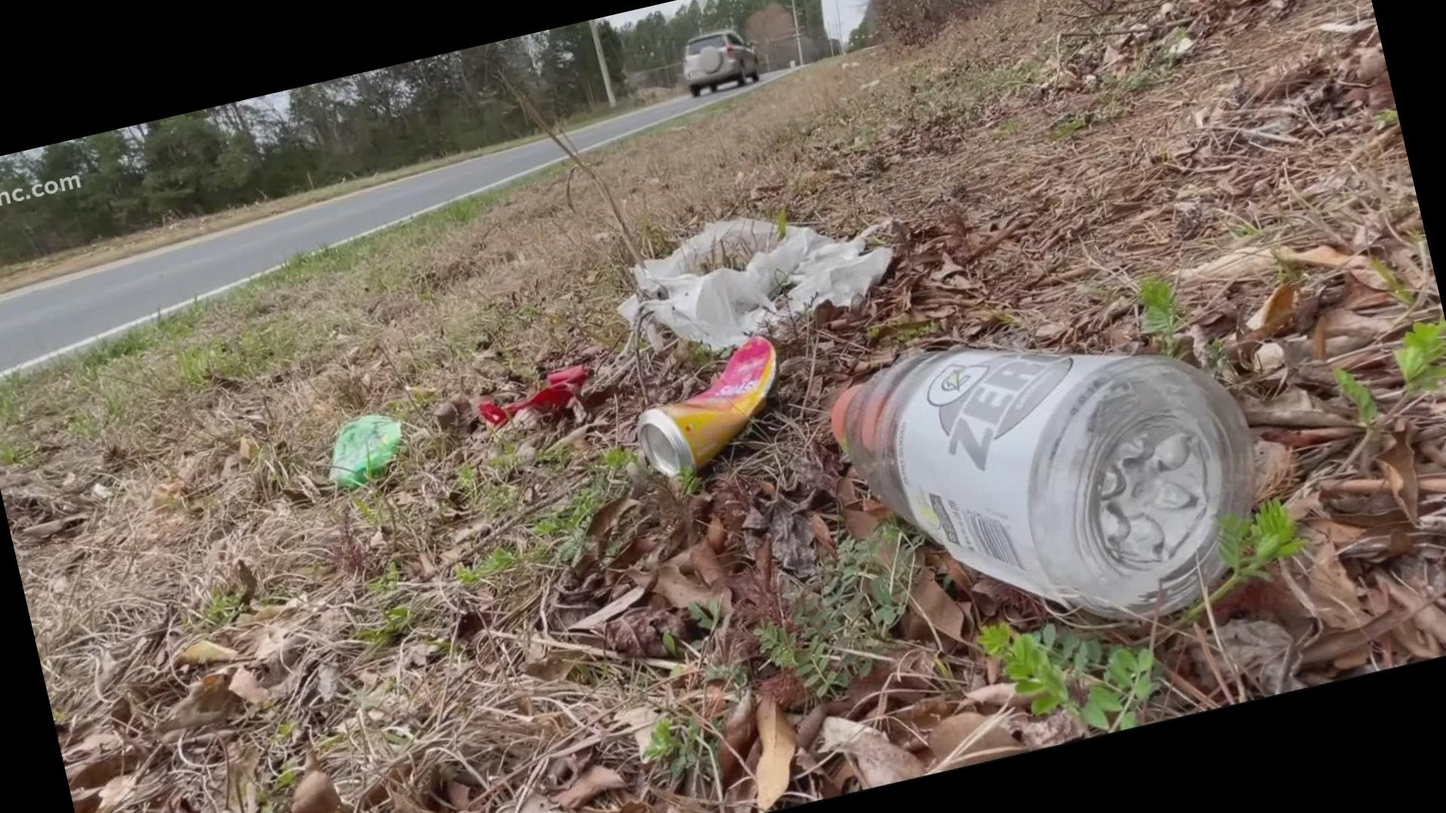trash: (565, 185, 880, 467)
